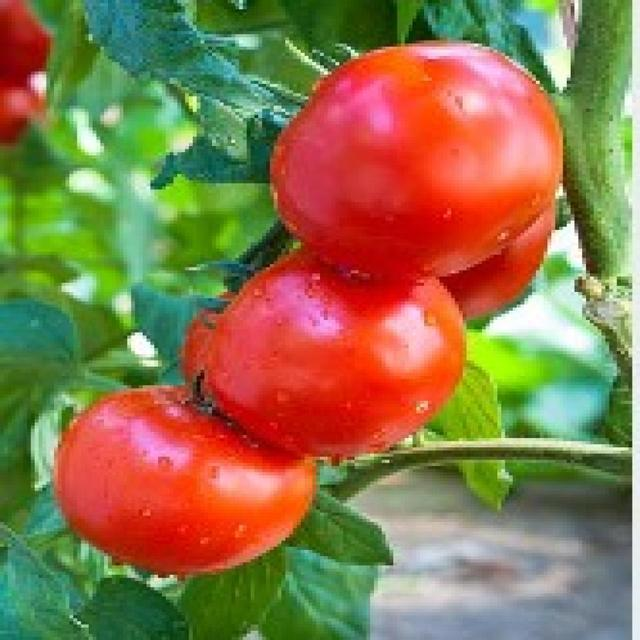Healthy Fruit: (121, 108, 272, 323)
